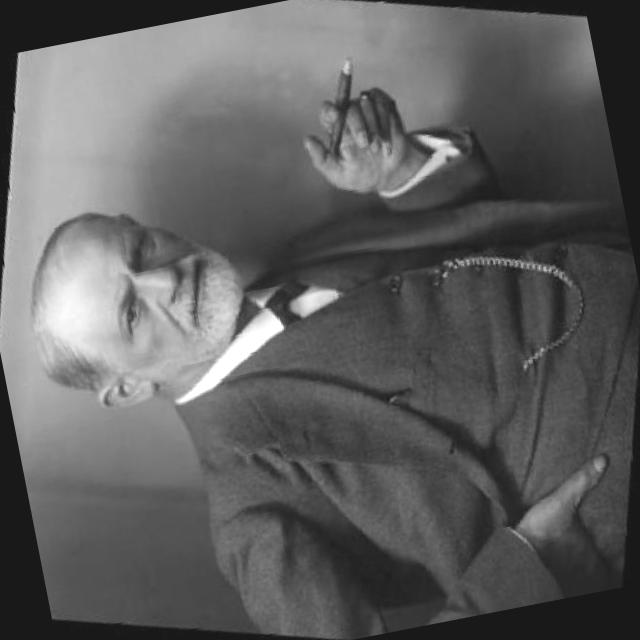cigarette: (306, 53, 375, 169)
